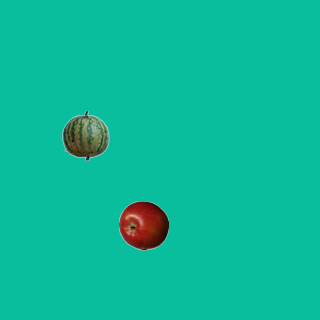Apple Braeburn: (118, 200, 168, 250)
Watermelon: (60, 110, 110, 160)
